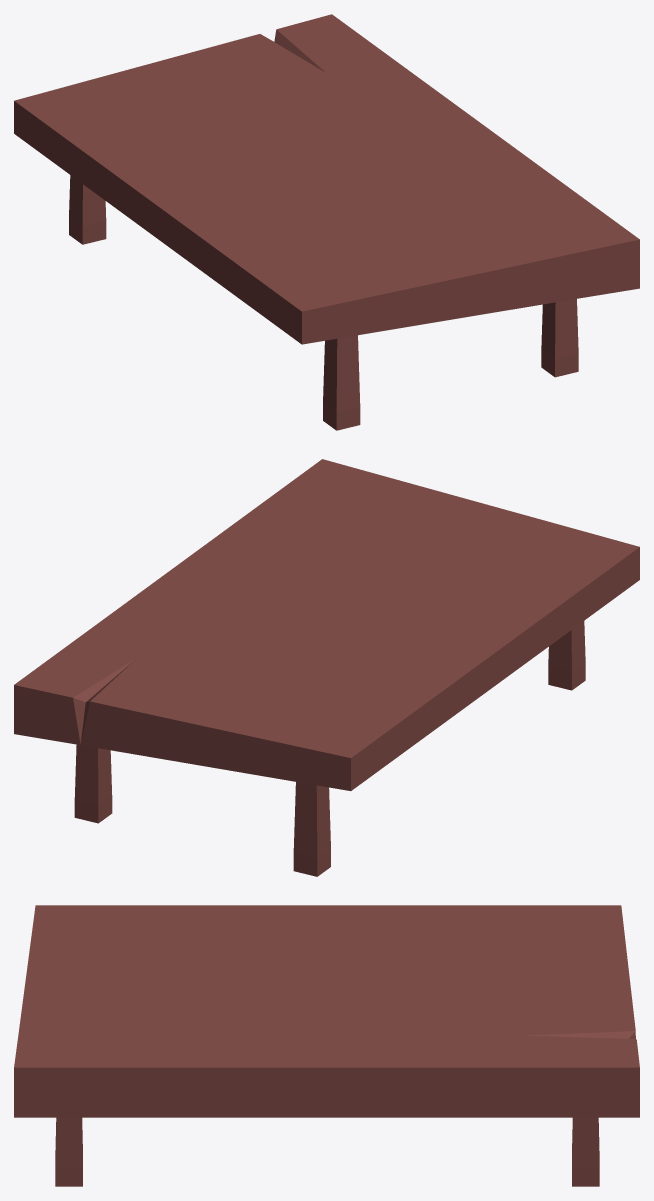
File: CoffeeTable.glb
3 views of the same model, one above another, from view 1: azimuth 30°, elevation 25°; view 2: azimuth 150°, elevation 25°; view 3: azimuth 270°, elevation 25° (orthographic).
Visible parts, largest first — view 1: Cube.002; view 2: Cube.002; view 3: Cube.002.
Boxes of the visible parts, x1,y1,x2,y2 form: Cube.002: [14, 14, 639, 430]; Cube.002: [14, 459, 639, 876]; Cube.002: [14, 905, 639, 1186].
Size of the model in its own units: 0.75 by 0.3 by 1.22.
